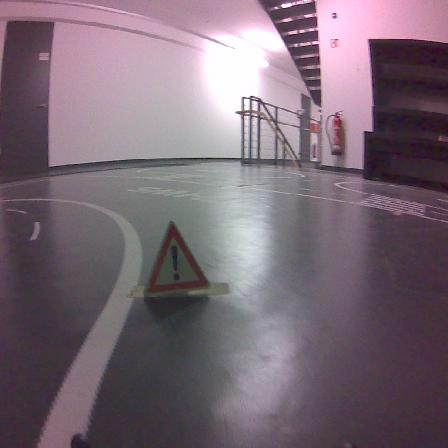ATTENTION: (146, 222, 208, 294)
